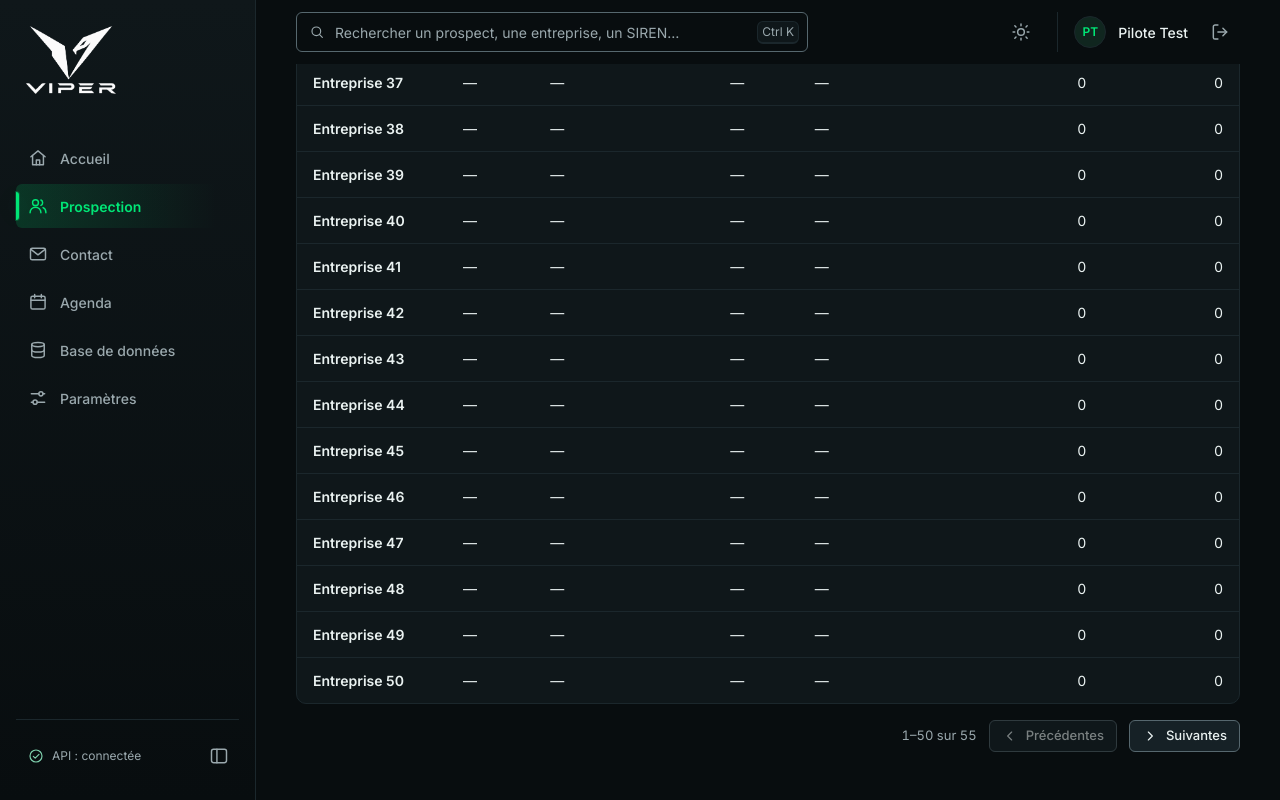
it: Companies page › pages through long lists
(page scrolled)
Expected: the navigation bar named "Pages de la liste" shows "1–50 sur 55", left=902, top=720, right=1240, bottom=752
Expected: the button "Précédentes" is disabled, left=989, top=720, right=1117, bottom=752
Step 1. Click the button "Suivantes" → {"x": 1184, "y": 736}, box left=1129, top=720, right=1240, bottom=752
(page scrolled)
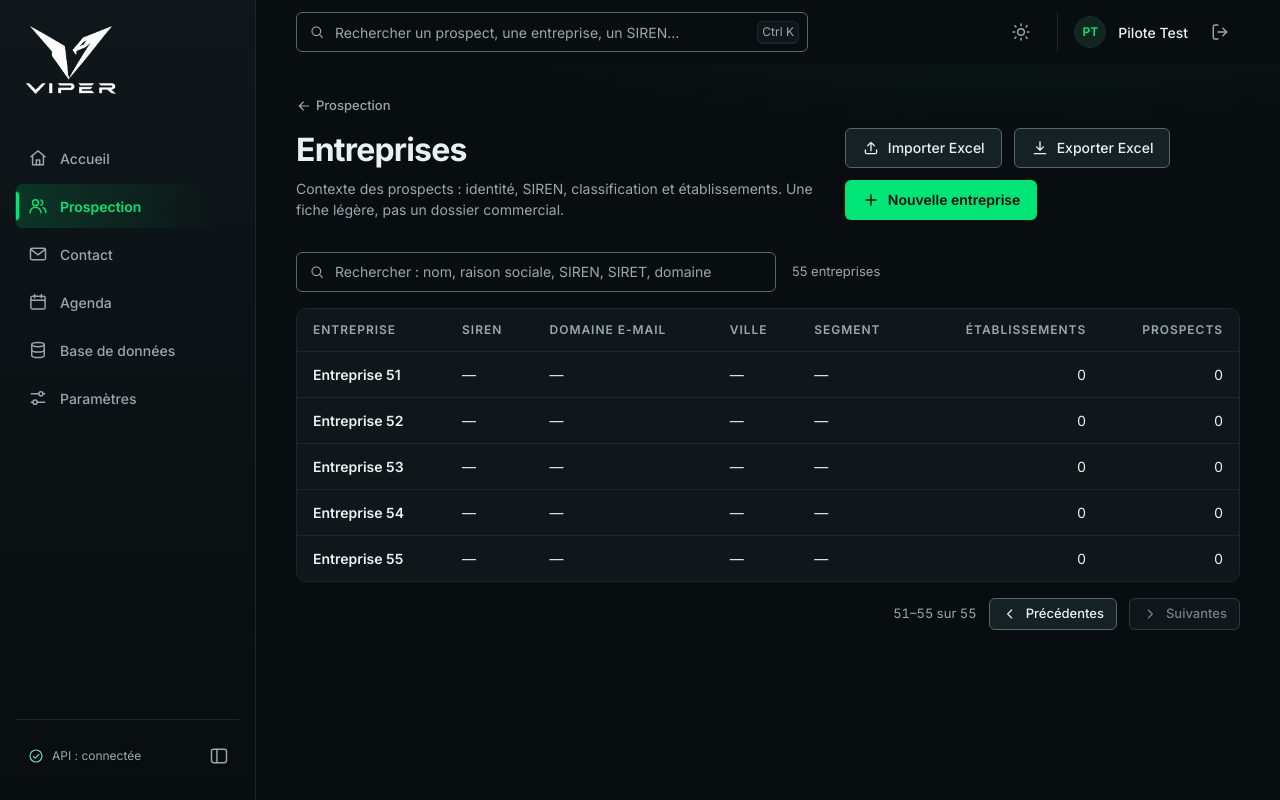
Expected: the navigation bar named "Pages de la liste" shows "51–55 sur 55", left=893, top=598, right=1240, bottom=630
Expected: the button "Suivantes" is disabled, left=1129, top=598, right=1240, bottom=630
